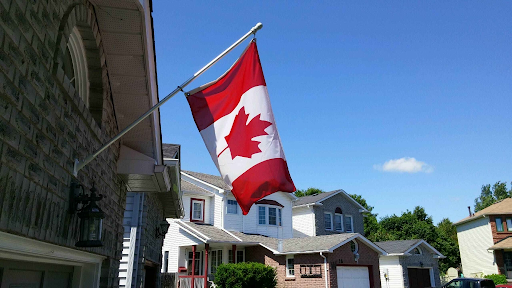Canada flag: (185, 39, 300, 217)
